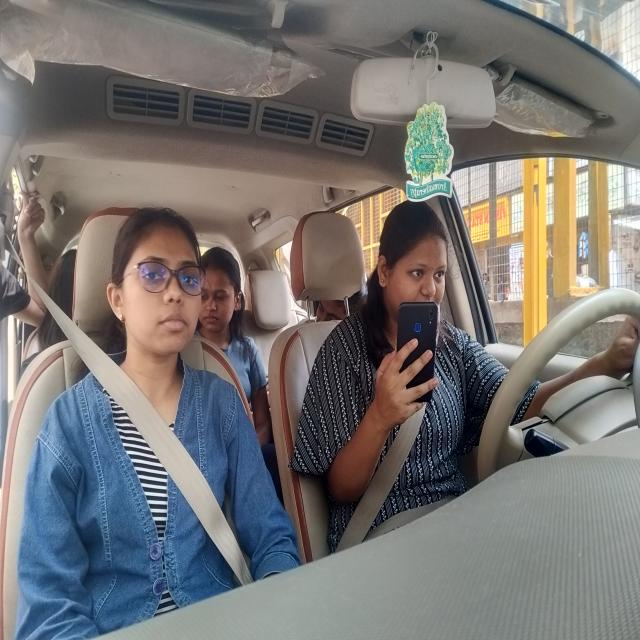mobile: (393, 301, 442, 405)
person: (104, 210, 215, 366), (378, 200, 455, 316), (200, 248, 245, 334), (320, 296, 364, 324)
